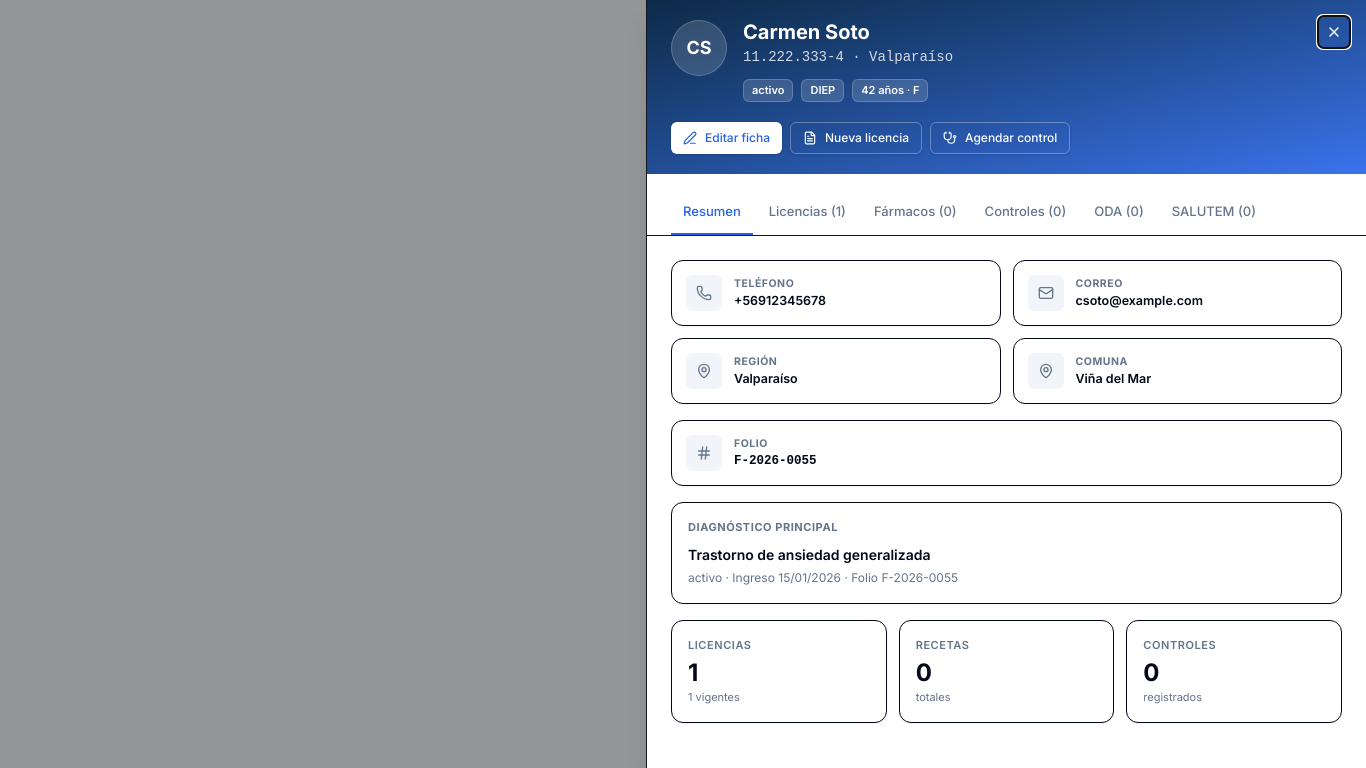
Test: PatientSheet › muestra la licencia en la pestaña Licencias
Check: the heading "Carmen Soto" is shown, box [743,20,870,44]
Click on Licencias tab
Click the tab "Licencias (1)" at (807, 212), box [757,190,858,235]
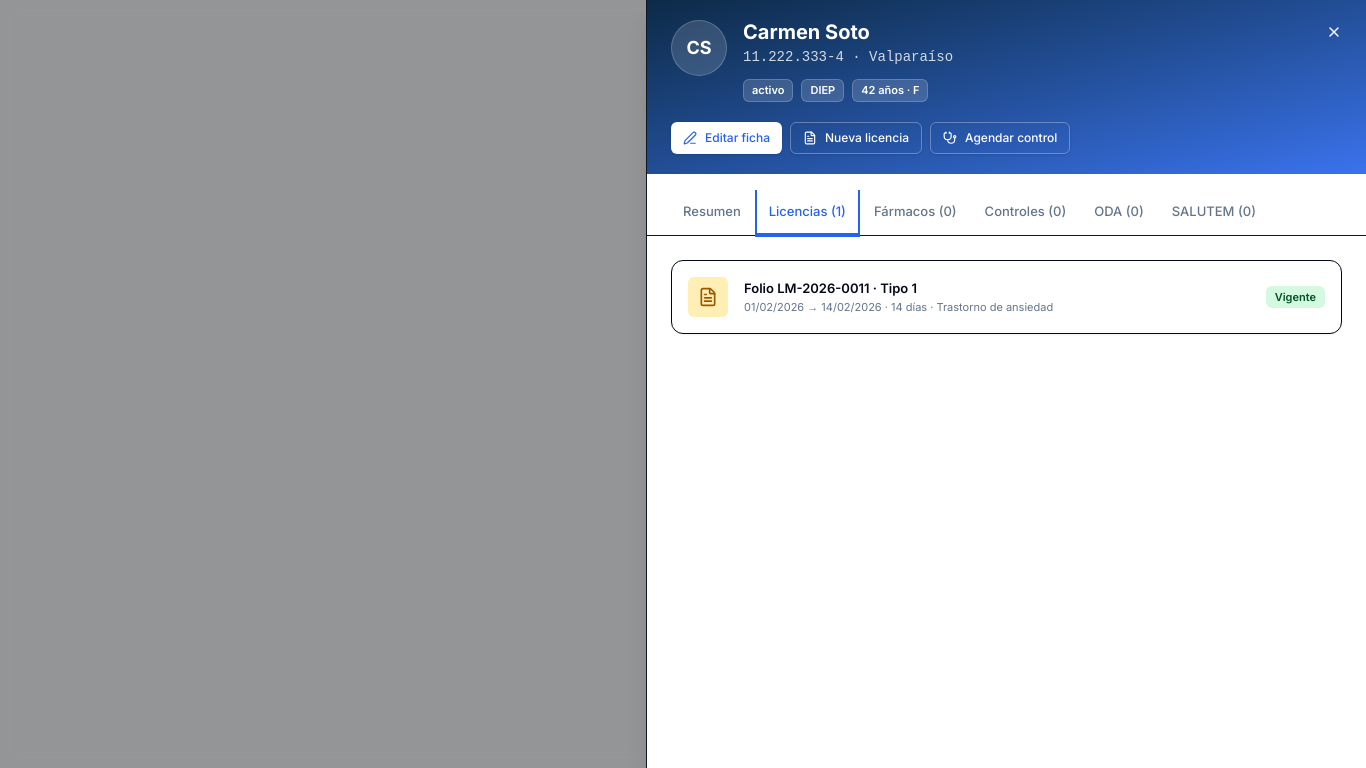
Check: the text "Folio LM-2026-0011 · Tipo 1" is shown, box [744,280,917,296]
Check: the text "01/02/2026 → 14/02/2026 · 14 días · Trastorno de ansiedad" is shown, box [744,300,1053,314]
